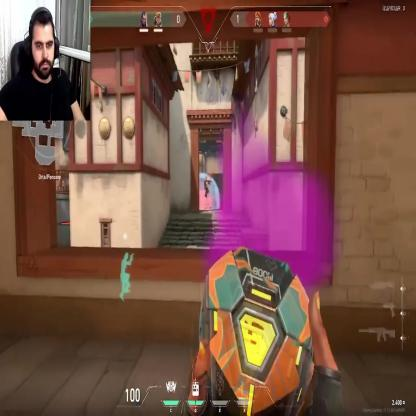enemy: (203, 174, 209, 198)
enemy_head: (205, 175, 207, 180)
